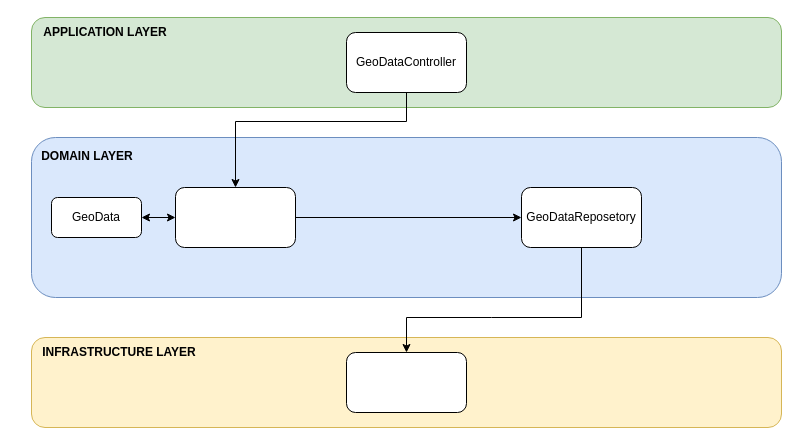
This 799x445 diagram has some shape labels left out. The centre of each missing label's shape, as x and y in pixels:
GeoDataService: the point at 235,217
MongoDB: the point at 406,382
